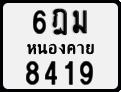letters: (51, 8, 68, 36), (71, 9, 88, 34), (79, 59, 94, 86), (25, 60, 40, 86), (44, 60, 58, 86), (32, 10, 47, 34), (64, 60, 74, 86)
province: (26, 42, 95, 56)
